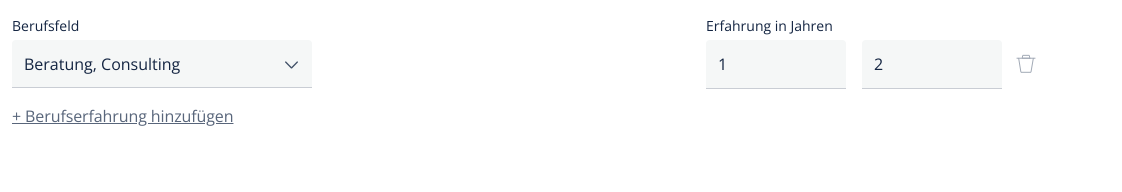
Scenario: Applicant Filter - Experience › should be able to deselect an experience
Expected: the number of elements with class "ApplicantFilterExperienceItem" is 1, x1=12 y1=16 x2=1038 y2=89
Expected: the button "Beratung, Consulting" is shown, x1=12 y1=40 x2=312 y2=88
// change months
Step 1. Replace the text in the 1st number field with "12" → [776, 64], box x1=706 y1=40 x2=846 y2=89
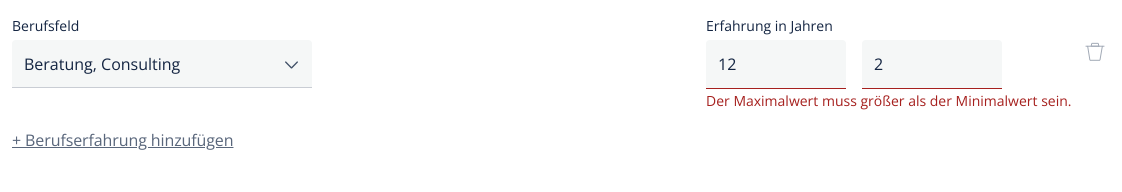
Step 2. Replace the text in the 2nd number field with "14" → [932, 64], box x1=862 y1=40 x2=1002 y2=89
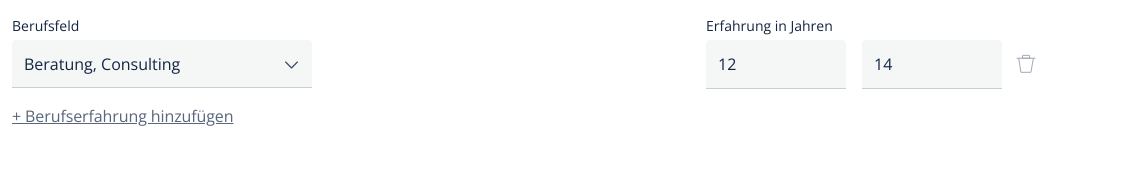
// select different job field and months
Step 3. Click the button "Beratung, Consulting" → [162, 64], box x1=12 y1=40 x2=312 y2=88
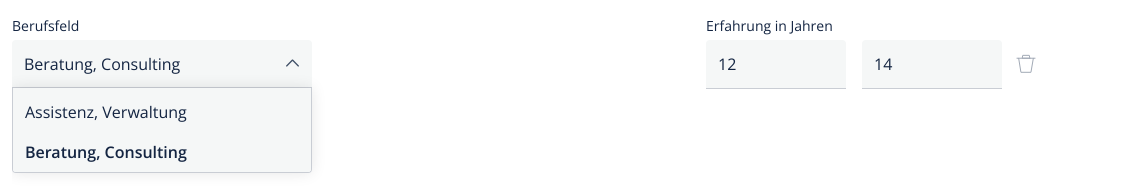
Step 4. Click the list item "Assistenz, Verwaltung" → [106, 112], box x1=25 y1=101 x2=187 y2=123
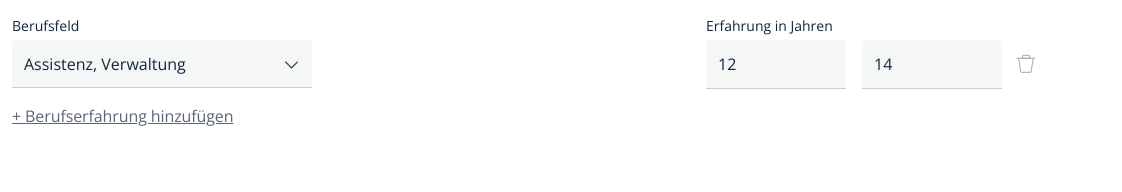
Expected: the 1st number field holds "12", x1=706 y1=40 x2=846 y2=89
Expected: the 2nd number field holds "14", x1=862 y1=40 x2=1002 y2=89
Expected: the button "Assistenz, Verwaltung" is shown
// deselect job field
Step 5. Click the button "Assistenz, Verwaltung" → [162, 64], box x1=12 y1=40 x2=312 y2=88
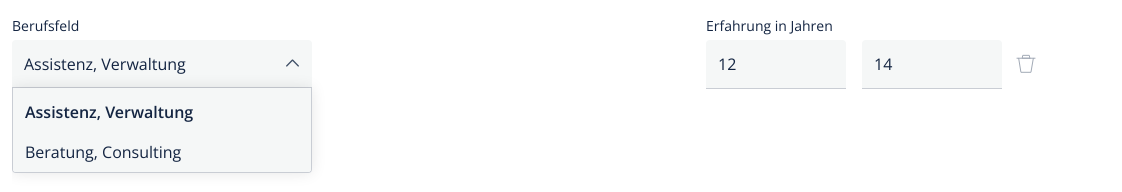
Step 6. Click the list item "Assistenz, Verwaltung" → [109, 112], box x1=25 y1=101 x2=193 y2=123
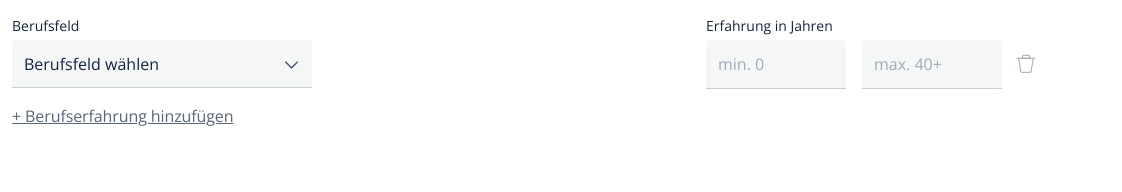
Expected: the button "Berufsfeld wählen" is shown, x1=12 y1=40 x2=312 y2=88
Expected: the number field with placeholder "min. 0" is empty, x1=706 y1=40 x2=846 y2=89
Expected: the number field with placeholder "min. 0" is disabled, x1=706 y1=40 x2=846 y2=89
